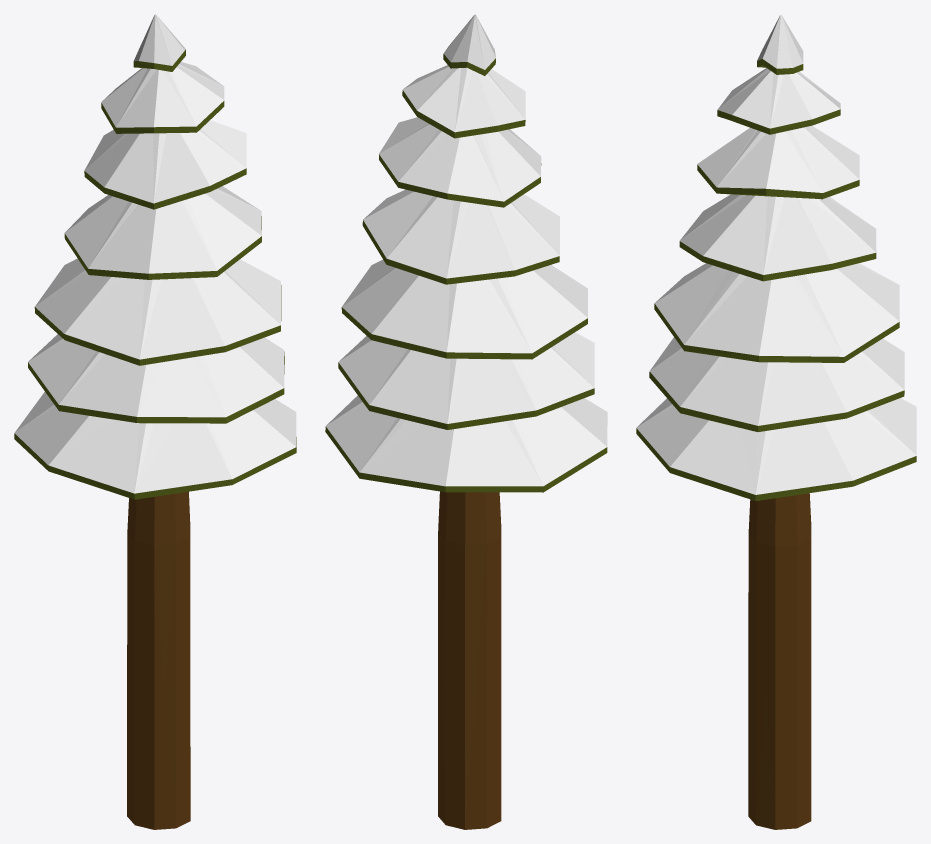
File: earth_tree01_top.obj
The picture shows the model from 3 angles, left to right: view 1: azimuth 30°, elevation 25°; view 2: azimuth 150°, elevation 25°; view 3: azimuth 270°, elevation 25°; orthographic projection.
Parts seen in each view (by area): view 1: Object.1; view 2: Object.1; view 3: Object.1.
Boxes of the visible parts, x1,y1,x2,y2 form: Object.1: (14, 14, 296, 829); Object.1: (325, 14, 607, 829); Object.1: (636, 15, 916, 829).
Size of the model in its own units: 18.4 by 57.02 by 18.12.
